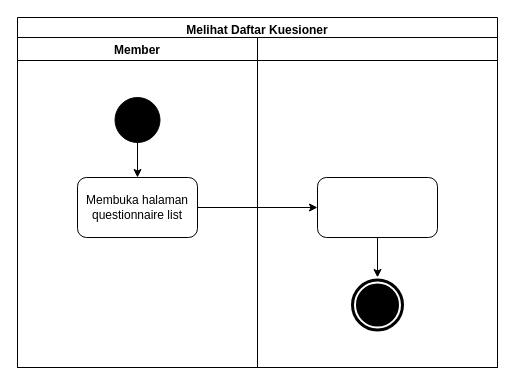
Image size: 515x385. Some labels were removed from this diagram. Here are the shapes that lost their labels. From the top down, the box of each, then its label:
(256, 36, 498, 368): Sistem
(316, 176, 438, 238): Menampilkan daftar kuesioner yang tersedia
